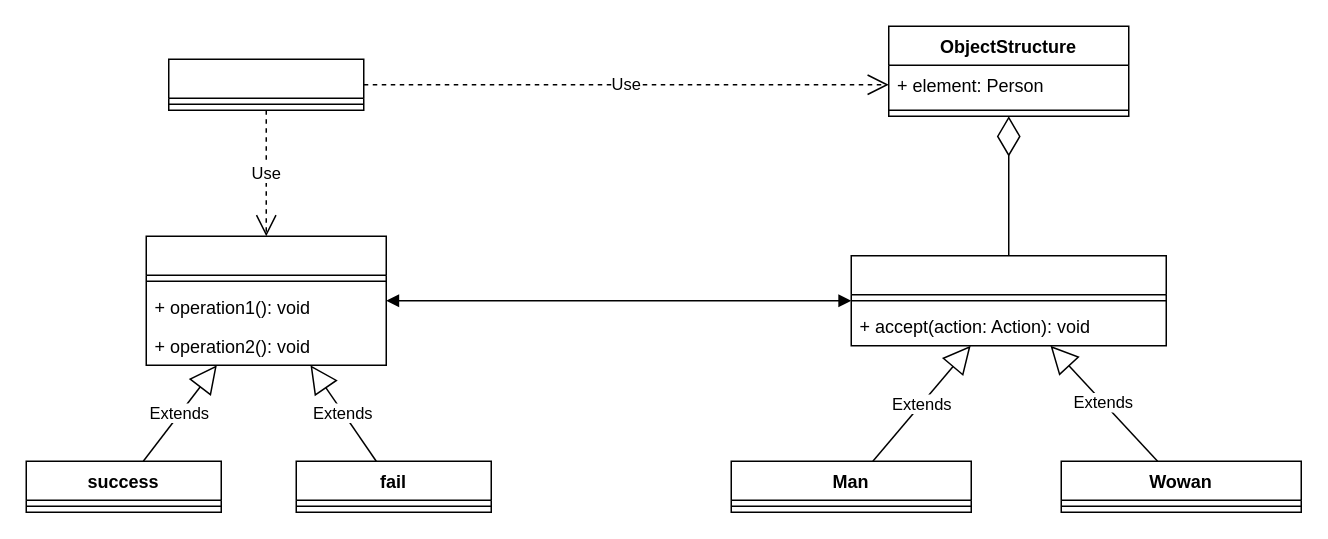
This 1328x539 diagram has some shape labels left out. Here are the shapes that lost their labels. From the top down, the box of each, then its label:
(167, 58, 364, 110): Client
(145, 235, 386, 365): Action
(850, 254, 1166, 346): Person
